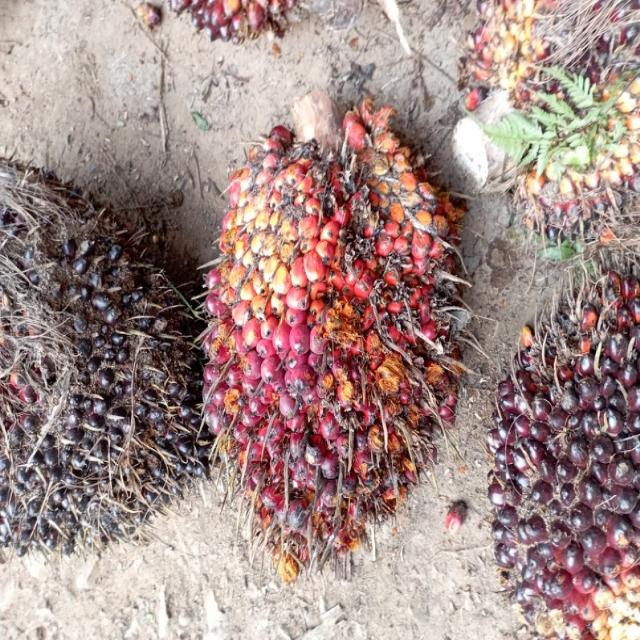fraksi 00: (0, 116, 272, 621)
fraksi 3: (173, 84, 519, 599)
